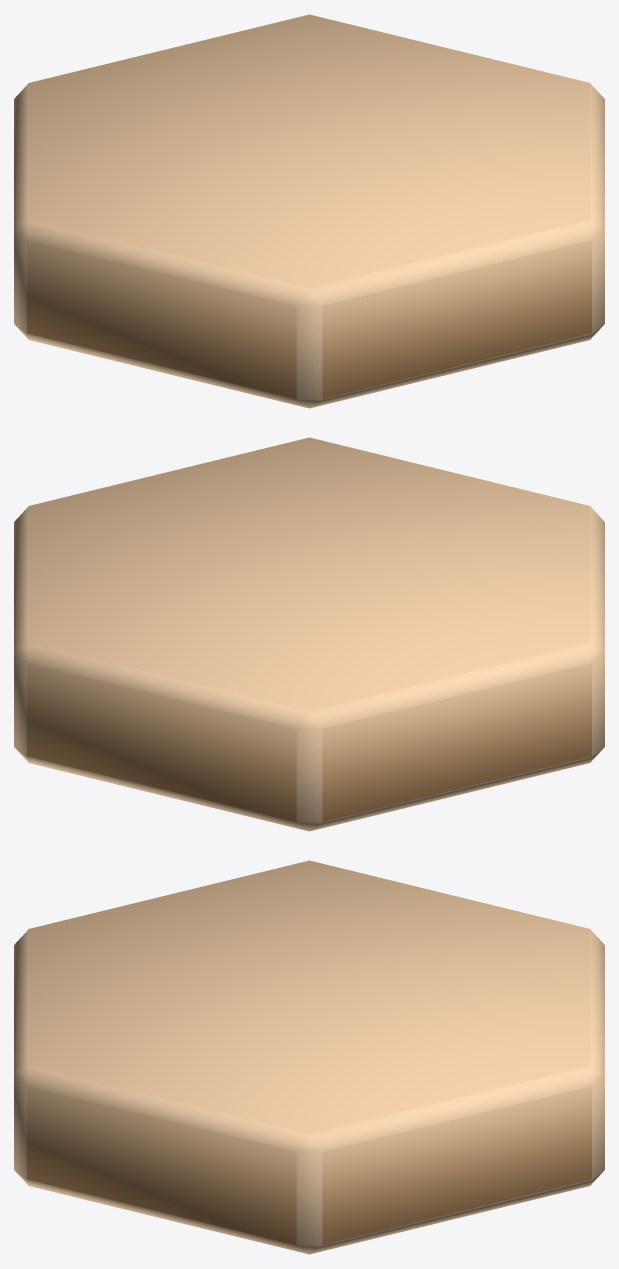
The model's file is bavel_spot_light_brown.fbx.
The picture shows the model from 3 angles, top to bottom: view 1: azimuth 30°, elevation 25°; view 2: azimuth 150°, elevation 25°; view 3: azimuth 270°, elevation 25°; orthographic projection.
Visible parts, largest first — view 1: bavel_spot_light_brown; view 2: bavel_spot_light_brown; view 3: bavel_spot_light_brown.
Boxes of the visible parts, x1,y1,x2,y2 form: bavel_spot_light_brown: [14, 14, 604, 408]; bavel_spot_light_brown: [14, 437, 604, 831]; bavel_spot_light_brown: [14, 860, 604, 1254].
Size of the model in its own units: 358 by 71.12 by 317.
1 material, 1 textured.
